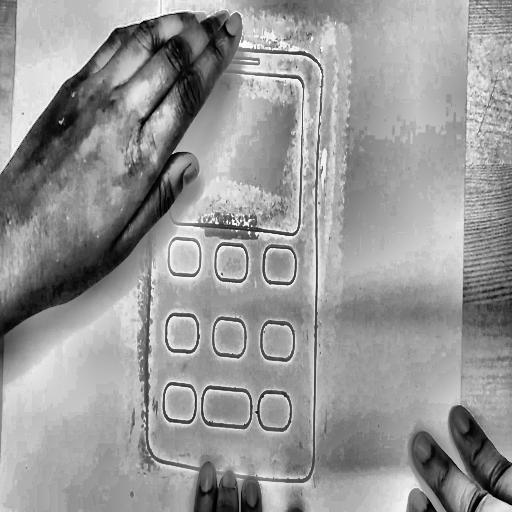mobile: (135, 0, 336, 490)
